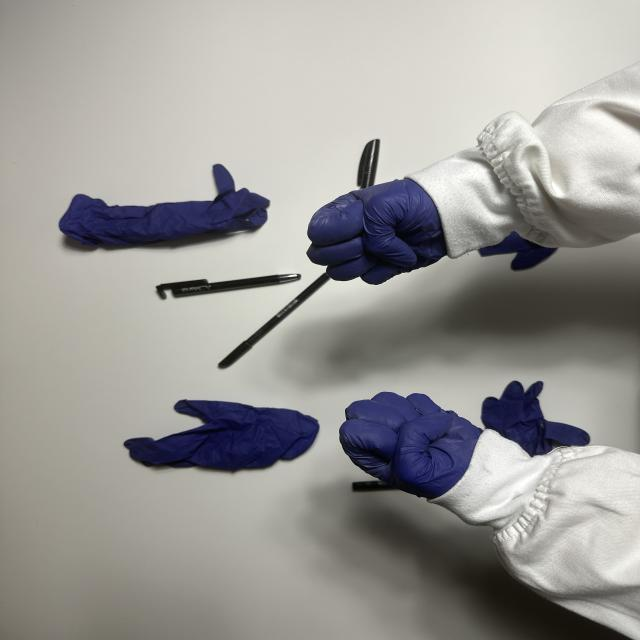gloves_contaminated: (339, 393, 482, 499), (307, 179, 447, 285)
